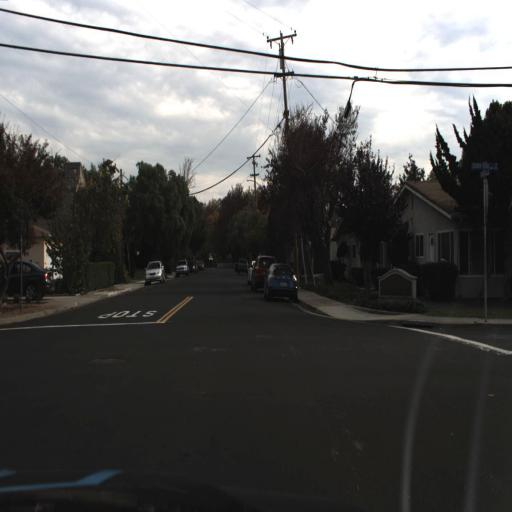car: (0, 256, 54, 299), (263, 259, 300, 308), (263, 260, 301, 302), (248, 254, 273, 294), (248, 254, 262, 293), (145, 261, 165, 285), (170, 255, 188, 281), (174, 254, 192, 278)
